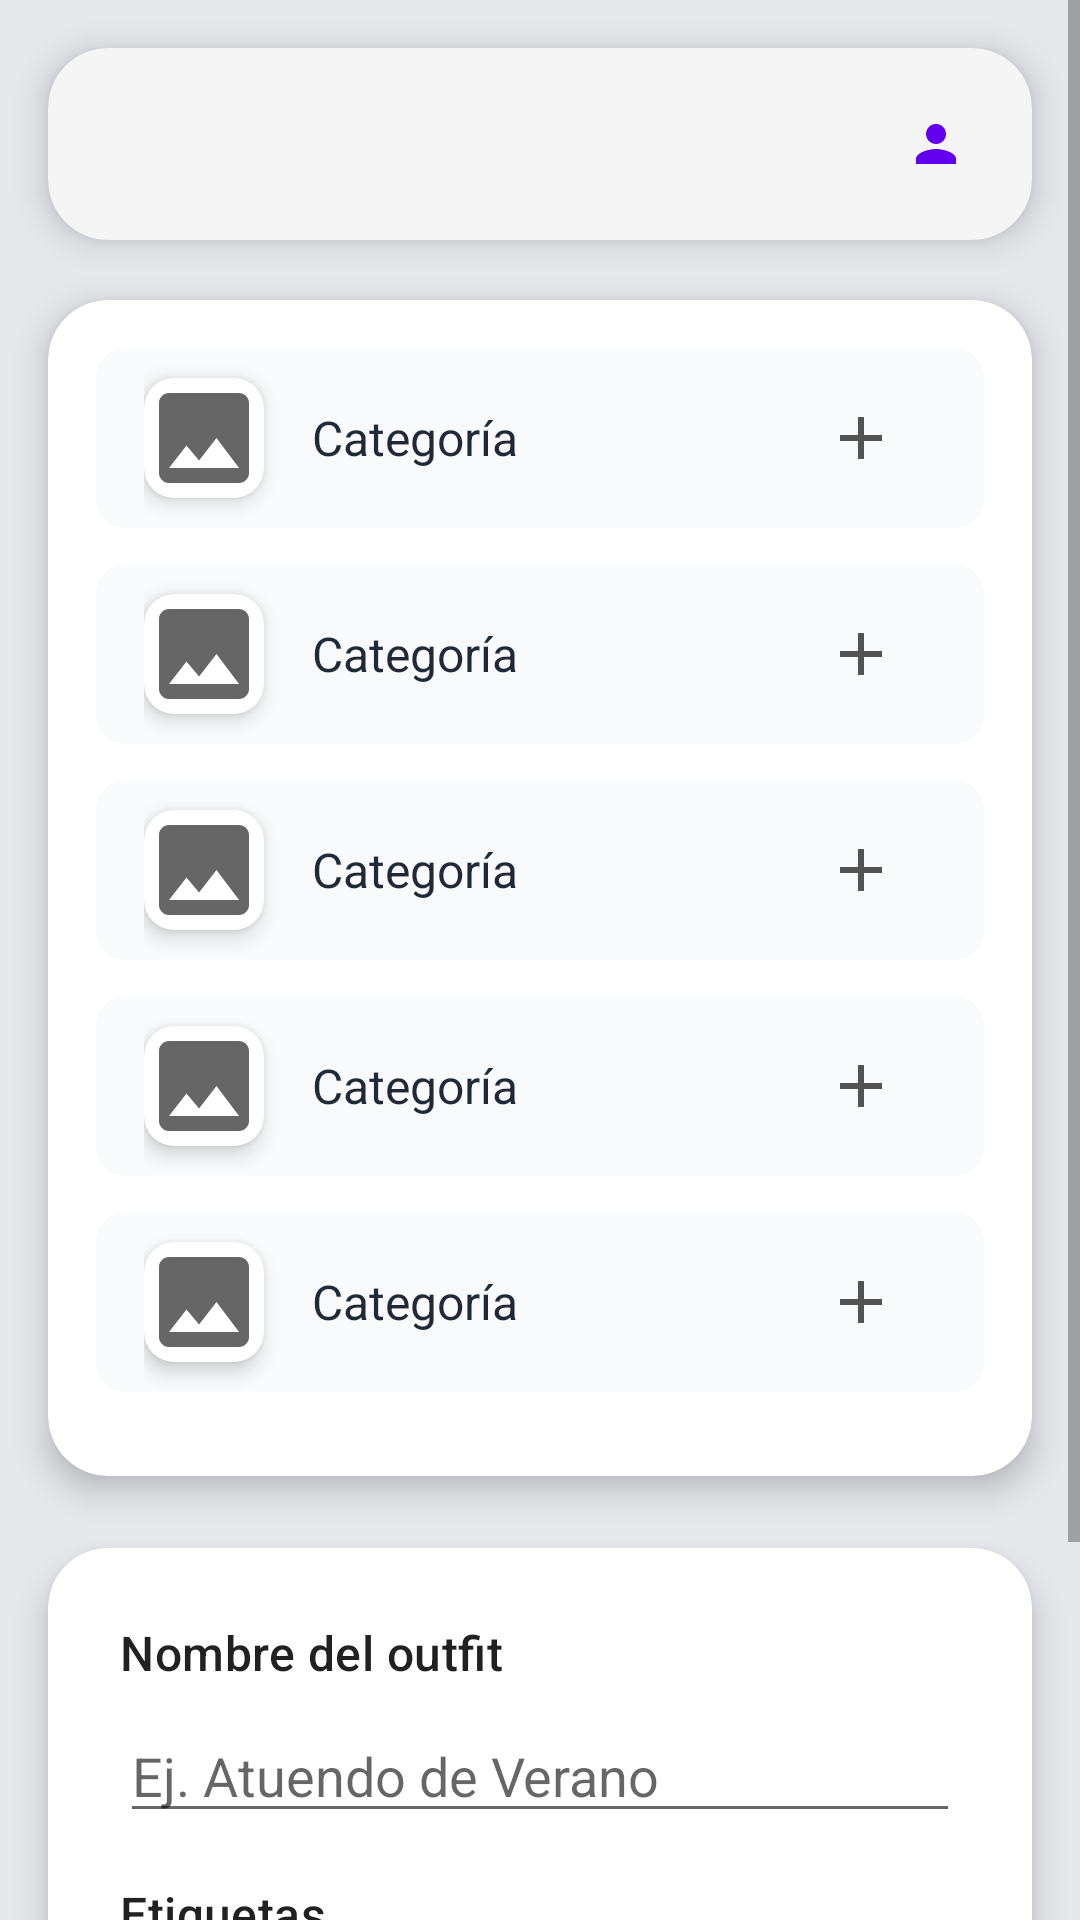

Icons on this 1080*1920 Android screen, each with the point to tap as (x,y):
add: (861,438), (861,654), (861,870), (861,1086), (861,1302)
person: (936,144)
